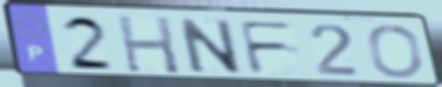2: (59, 14, 116, 71), (307, 22, 359, 78)
F: (236, 19, 299, 75)
H: (114, 13, 184, 76)
N: (175, 16, 245, 75)
O: (366, 23, 427, 80)
